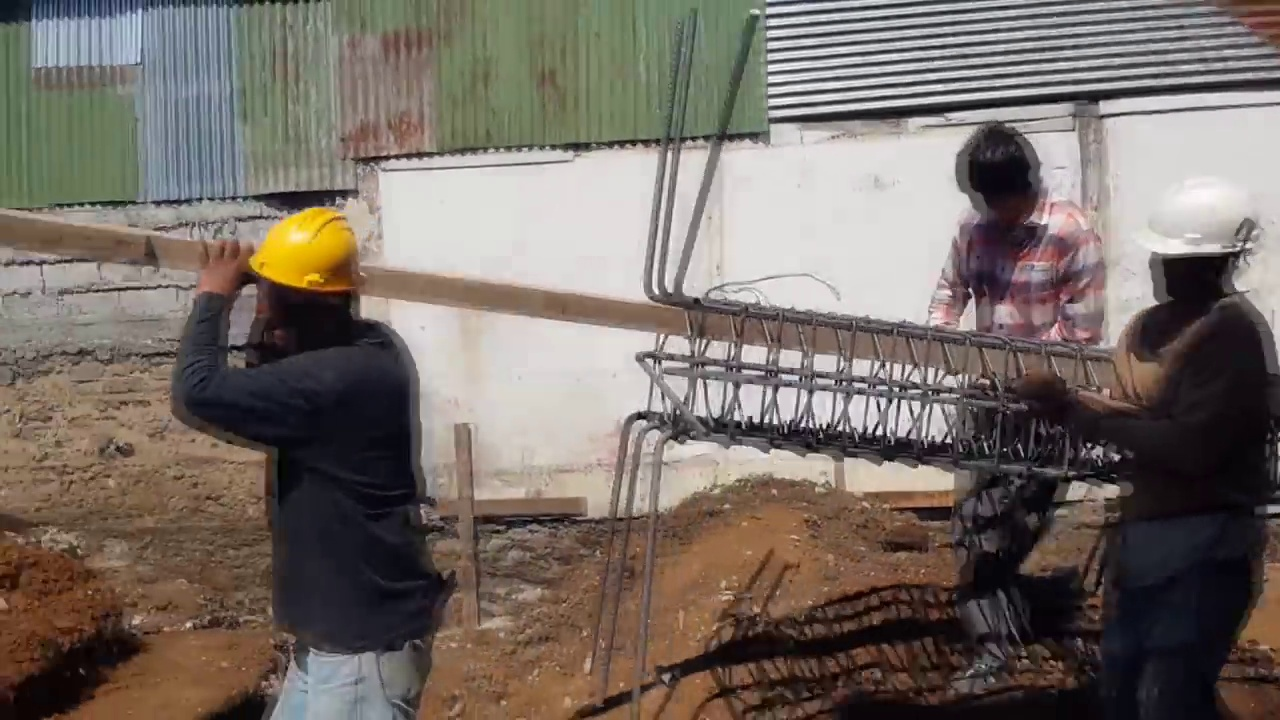helmet: (1133, 177, 1271, 259), (244, 205, 363, 291)
helmet-off: (954, 120, 1044, 230)
helmet-on: (1135, 172, 1272, 320), (243, 200, 363, 351)
person: (1004, 176, 1280, 720), (171, 197, 425, 720), (937, 107, 1108, 691)
